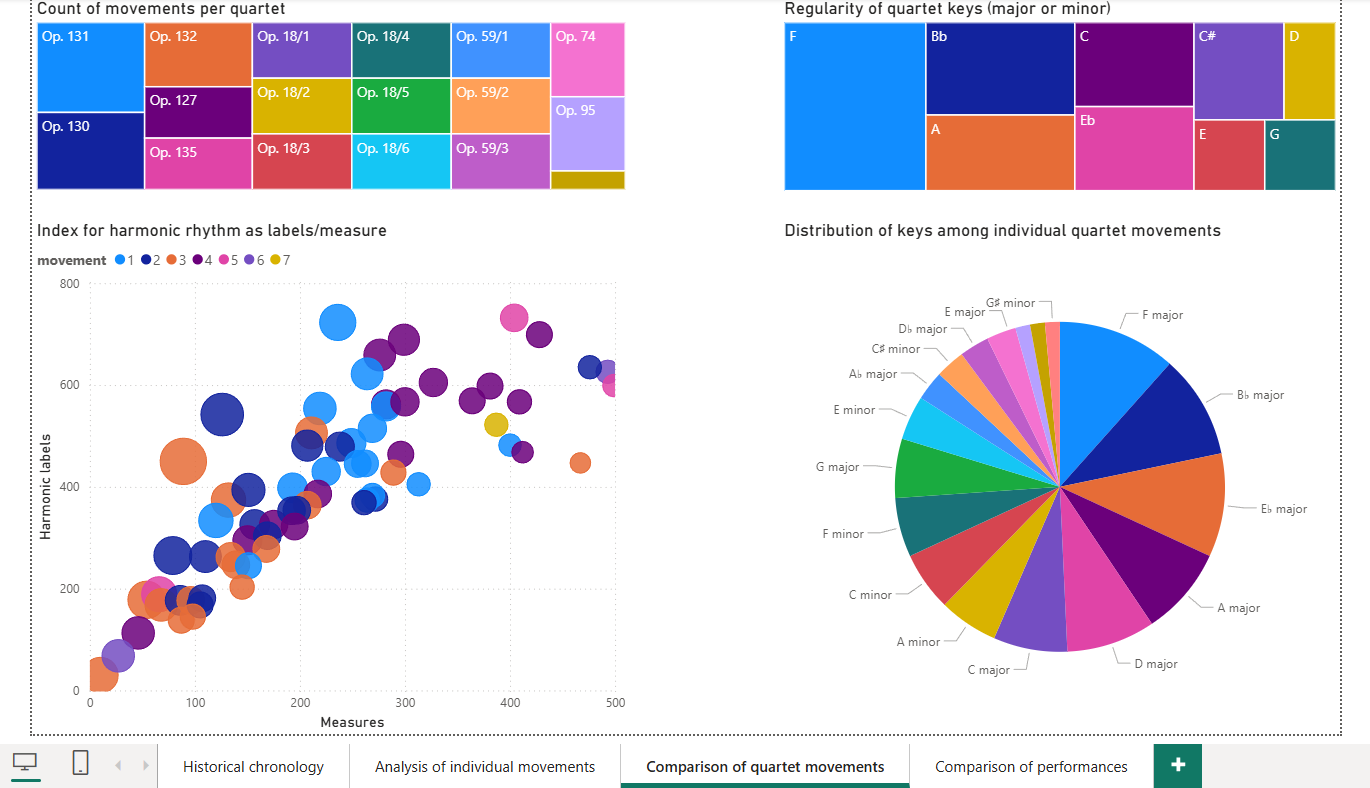

Layout of this report page (visuals, bound fields, positions):
{"tool":"powerbi","page":{"name":"Comparison of quartet movements","canvas":[1280,720],"ordinal":2},"visuals":[{"type":"scatterChart","title":"Index for harmonic rhythm as labels/measure","fields":{"X":["annotated_beethoven_corpus_overview.measures"],"Y":["annotated_beethoven_corpus_overview.labels"],"Size":["Avg(annotated_beethoven_corpus_overview.Round)"],"Series":["beethoven_string_quartets.movement"]},"box":[0,216.5,585.6,504.7],"z":0},{"type":"pieChart","title":"Distribution of keys among individual quartet movements","fields":{"Y":["CountNonNull(beethoven_string_quartets.opusnumber)"],"Category":["beethoven_string_quartets.Movement key"]},"box":[731.1,215.9,548.9,504.7],"z":1000},{"type":"treemap","title":"Regularity of quartet keys (major or minor)","fields":{"Values":["CountNonNull(beethoven_string_quartets.opusnumber)"],"Group":["beethoven_string_quartets.key"]},"box":[731.4,0,549.1,193.7],"z":2000},{"type":"treemap","title":"Count of movements per quartet","fields":{"Group":["beethoven_string_quartets.opusnumber"],"Values":["CountNonNull(beethoven_string_quartets.movement)"]},"box":[0,0,585.6,192.5],"z":3000}]}

Visuals, with their boxes on the page's 1280x720 design canvas (x1, y1, x2, y2). These are canvas units, not pixel positions in the 1370x788 screenshot, which may show the page scaled, cropped or inside an application window:
"Index for harmonic rhythm as labels/measure" scatterChart: bbox(0, 216, 586, 721)
"Distribution of keys among individual quartet movements" pieChart: bbox(731, 216, 1280, 721)
"Regularity of quartet keys (major or minor)" treemap: bbox(731, 0, 1280, 194)
"Count of movements per quartet" treemap: bbox(0, 0, 586, 192)
